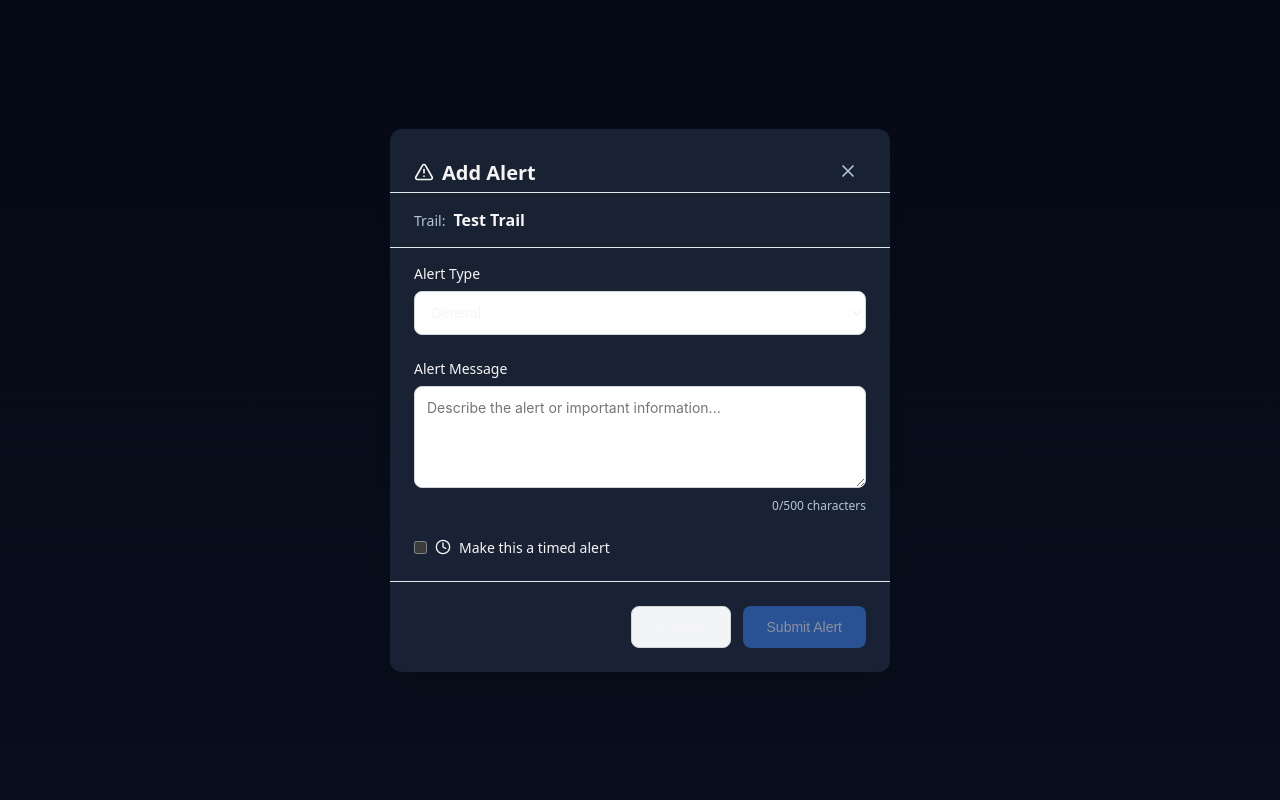
Test case: AlertModal › Form Interactions › hides duration input when timed alert is disabled
This screenshot has width=1280, height=800.
Click the checkbox labelled "Make this a timed alert": (420, 547) [414,540,427,554]
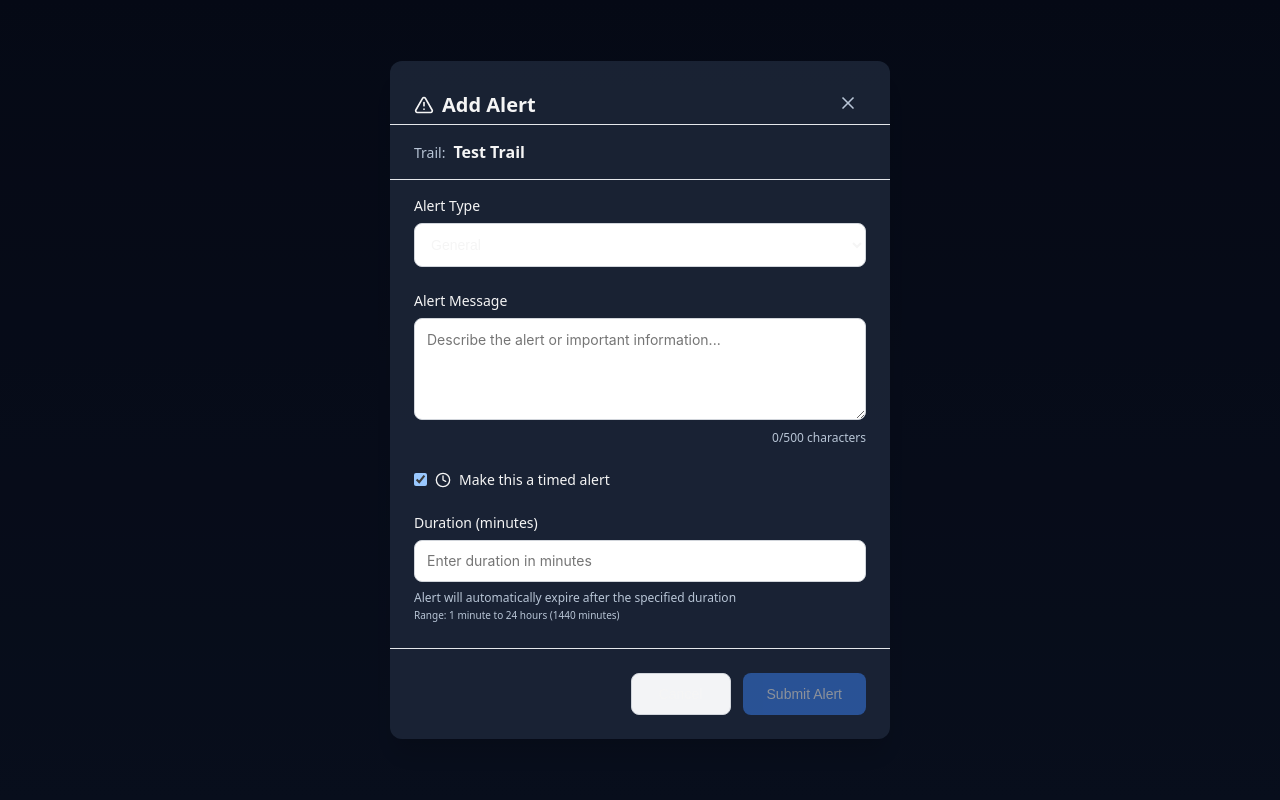
Click the checkbox labelled "Make this a timed alert": (420, 480) [414,473,427,486]
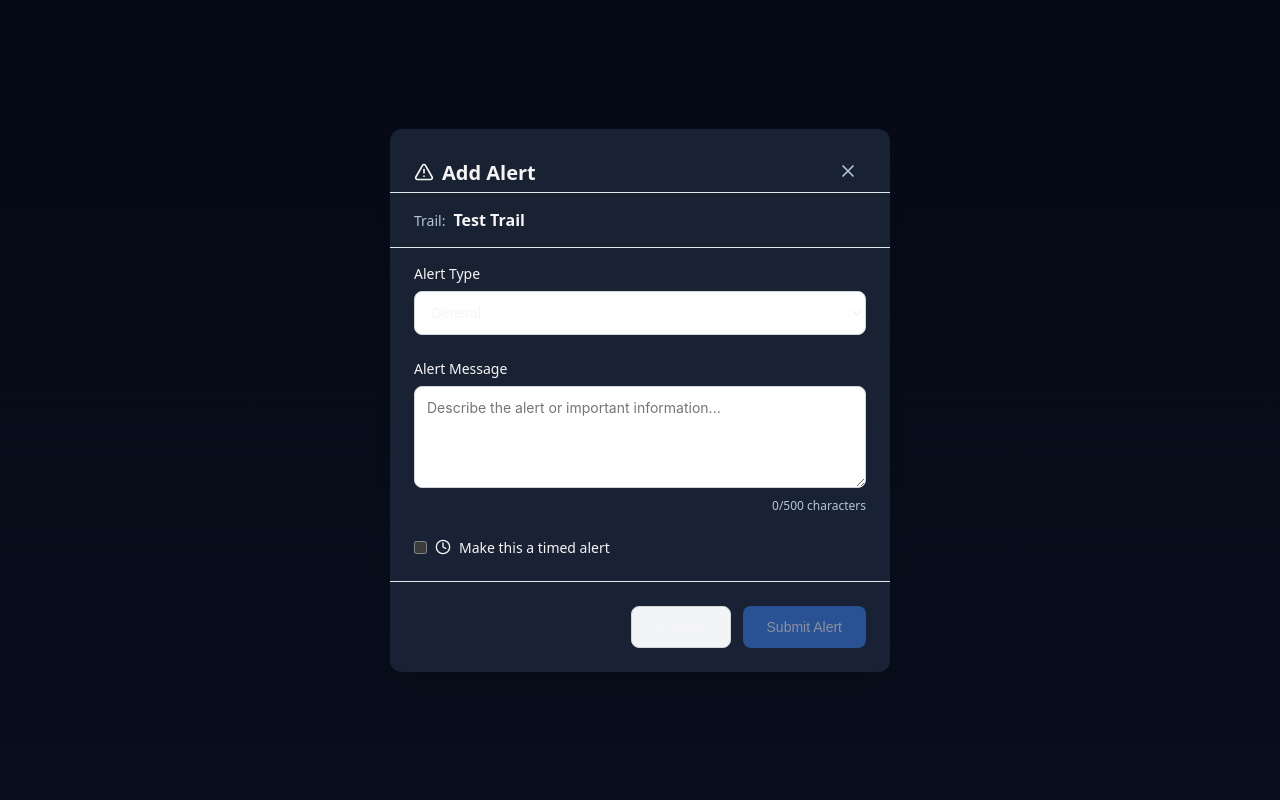
Result: the label labelled "Duration (minutes)" is gone
